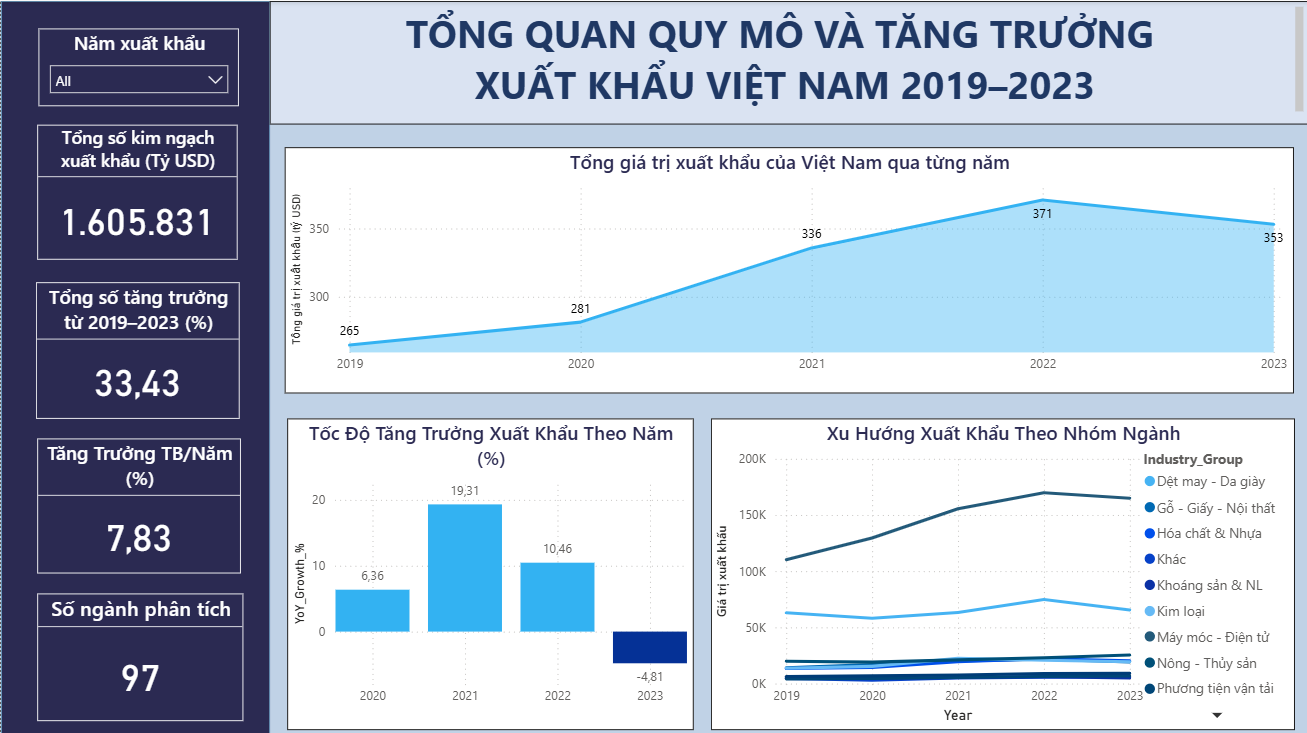

Layout of this report page (visuals, bound fields, positions):
{"tool":"powerbi","page":{"name":"Quy mô và Tăng trưởng","canvas":[1280,720],"ordinal":0},"visuals":[{"type":"shape","box":[0,0,263.3,720.3],"z":0},{"type":"slicer","title":"Năm xuất khẩu ","fields":{"Values":["dim_year.Year"]},"box":[36.7,26.6,196.2,75.9],"z":1000},{"type":"card","title":"Tổng số kim ngạch xuất khẩu (Tỷ USD)","fields":{"Values":["Sum(fact_export.Total_Export_Value_M)"]},"box":[35.5,121.1,195.7,132.1],"z":2000},{"type":"card","title":"Tổng số tăng trưởng từ 2019–2023 (%)","fields":{"Values":["fact_export.Growth 2019 to 2023 %"]},"box":[34.2,275.1,199.3,133.3],"z":3000},{"type":"card","title":"Số ngành phân tích","fields":{"Values":["CountNonNull(dim_industry.HS2)"]},"box":[35.7,579.1,201.7,124.9],"z":4000},{"type":"lineChart","title":"Tổng giá trị xuất khẩu của Việt Nam qua từng năm","fields":{"Category":["dim_year.Year"],"Y":["fact_export.Total Export B"]},"box":[277.6,143.1,986.8,240.9],"z":5000},{"type":"textbox","box":[262.9,0,1017.4,121.1],"z":6000},{"type":"clusteredColumnChart","title":"Tốc Độ Tăng Trưởng Xuất Khẩu Theo Năm (%)","fields":{"Category":["dim_year.Year"],"Y":["Sum(total_by_year.YoY_Growth_%)"]},"box":[277.6,399.9,397.4,304.5],"z":7000},{"type":"lineChart","title":"Xu Hướng Xuất Khẩu Theo Nhóm Ngành","fields":{"Category":["dim_year.Year"],"Series":["f2_group_by_year.Industry_Group"],"Y":["Sum(f2_group_by_year.Group_Export_M)"]},"box":[693.3,399.9,571.1,304.5],"z":8000},{"type":"card","title":"Tăng Trưởng TB/Năm (%)","fields":{"Values":["total_by_year.YoY Trung Binh"]},"box":[35.5,428,199.3,132.1],"z":9000}]}

Visuals, with their boxes in screenshot pixels (x1, y1, x2, y2), scaled from the page's 1280x720 canvas onto the 1307x733 screenshot:
shape: select_region(0, 0, 269, 732)
"Năm xuất khẩu " slicer: select_region(37, 27, 238, 104)
"Tổng số kim ngạch xuất khẩu (Tỷ USD)" card: select_region(36, 123, 236, 258)
"Tổng số tăng trưởng từ 2019–2023 (%)" card: select_region(35, 280, 238, 416)
"Số ngành phân tích" card: select_region(36, 590, 242, 717)
"Tổng giá trị xuất khẩu của Việt Nam qua từng năm" lineChart: select_region(283, 146, 1291, 391)
textbox: select_region(268, 0, 1306, 123)
"Tốc Độ Tăng Trưởng Xuất Khẩu Theo Năm (%)" clusteredColumnChart: select_region(283, 407, 689, 717)
"Xu Hướng Xuất Khẩu Theo Nhóm Ngành" lineChart: select_region(708, 407, 1291, 717)
"Tăng Trưởng TB/Năm (%)" card: select_region(36, 436, 240, 570)
